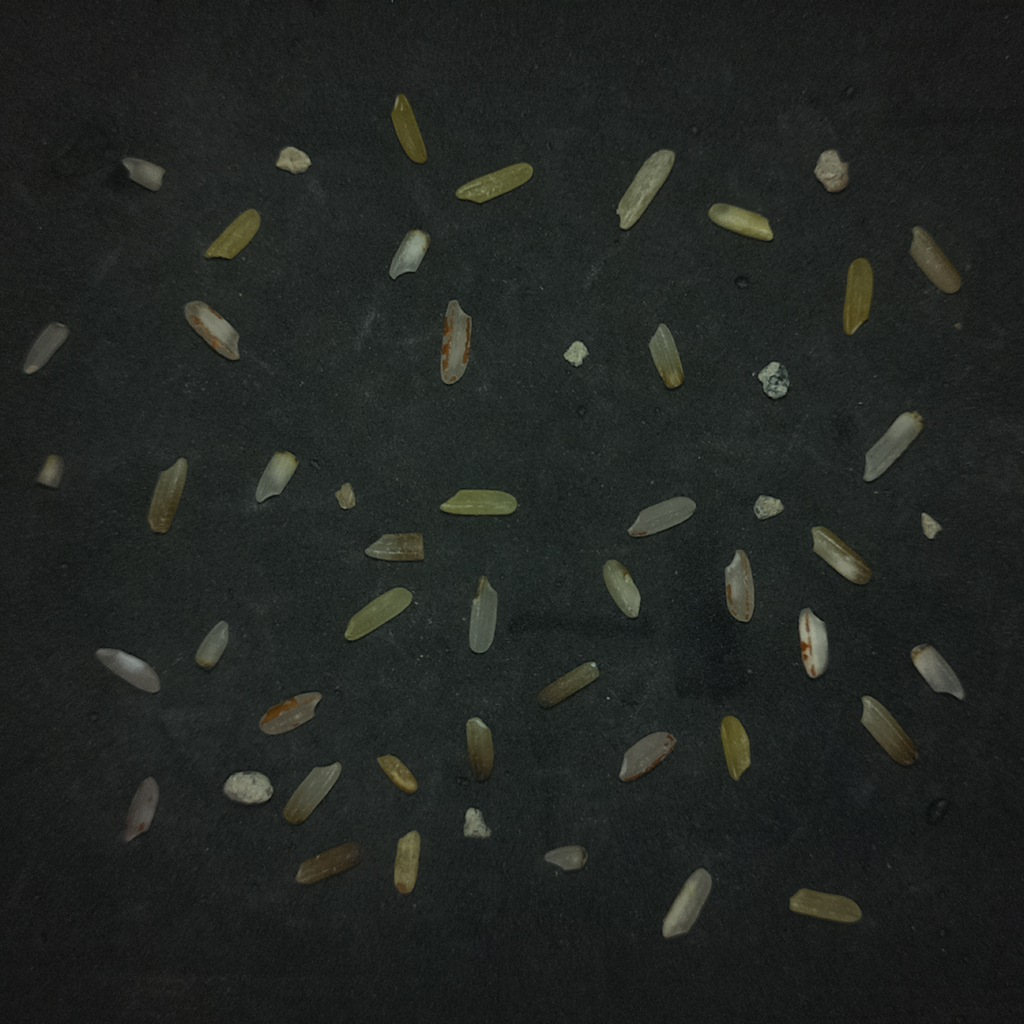broken: (121, 157, 164, 191)
chalky: (662, 868, 711, 938), (389, 230, 429, 279)
damaged: (616, 150, 674, 229), (911, 645, 964, 699), (468, 576, 497, 653), (256, 451, 297, 502), (195, 622, 227, 668), (544, 844, 587, 871)
discolored: (863, 412, 923, 481), (861, 695, 917, 765), (283, 762, 341, 824), (344, 587, 411, 640), (909, 226, 961, 293), (812, 526, 871, 584), (455, 162, 533, 203), (148, 457, 187, 533), (538, 661, 598, 707), (205, 208, 260, 258), (295, 842, 361, 883), (391, 93, 428, 164), (789, 889, 860, 923), (709, 203, 773, 240), (843, 257, 872, 335), (649, 323, 683, 388), (440, 489, 517, 515), (720, 716, 750, 780), (466, 717, 493, 781), (393, 830, 420, 894), (364, 533, 424, 561), (377, 754, 418, 794), (35, 454, 64, 488)
foreign: (814, 149, 848, 193), (225, 772, 271, 803), (815, 150, 847, 192), (758, 361, 788, 398), (275, 145, 311, 174), (464, 807, 491, 838), (754, 495, 782, 518), (335, 482, 357, 510), (563, 340, 587, 365), (921, 513, 942, 539)
red: (184, 300, 239, 360), (619, 731, 675, 781), (627, 496, 695, 537), (259, 691, 321, 734), (440, 300, 471, 383), (123, 777, 158, 841), (724, 549, 754, 622), (603, 559, 639, 618), (799, 607, 828, 678)
whole: (95, 648, 159, 692), (23, 322, 69, 374)
